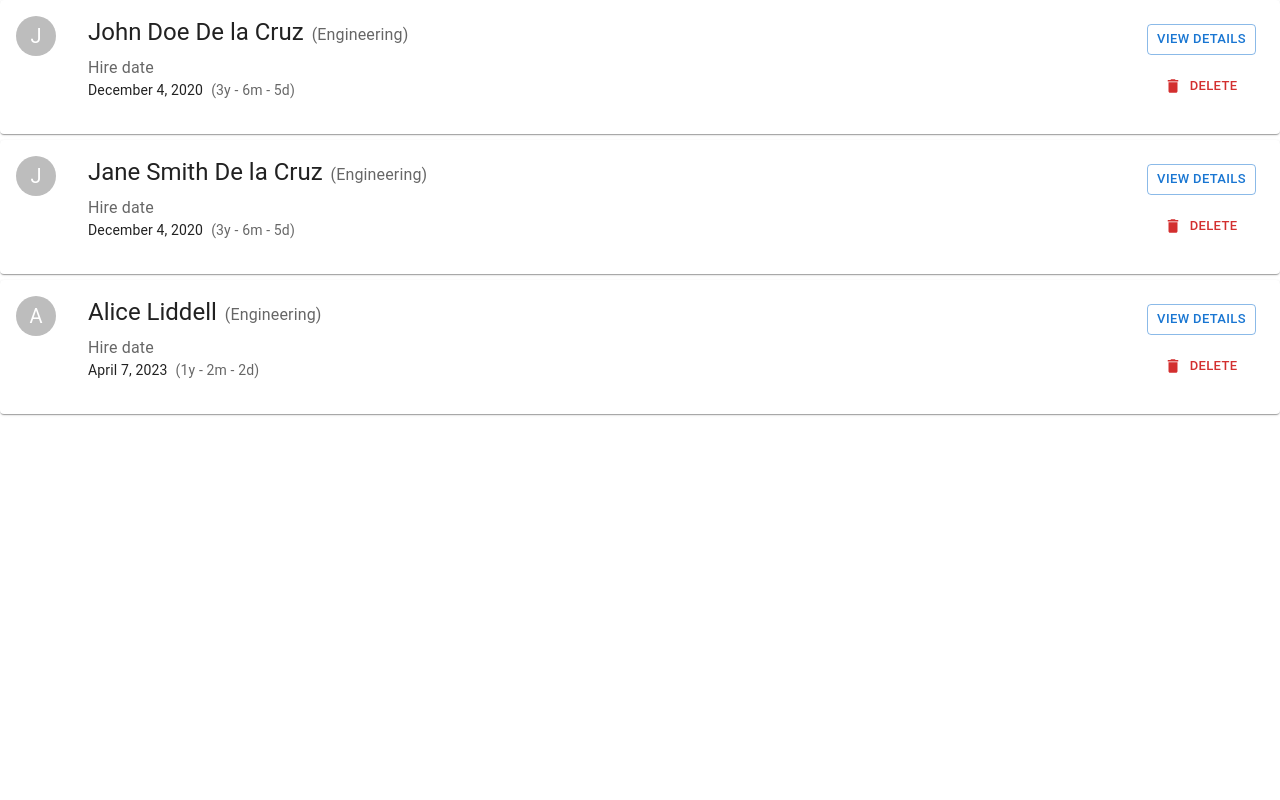
List of employees › Delete employee › should display a confirmation dialog when clicking on delete employee button
The width and height of the screenshot is (1280, 800).
Click the 1st button "Delete". click: {"x": 1202, "y": 86}
box: [1147,71,1256,102]
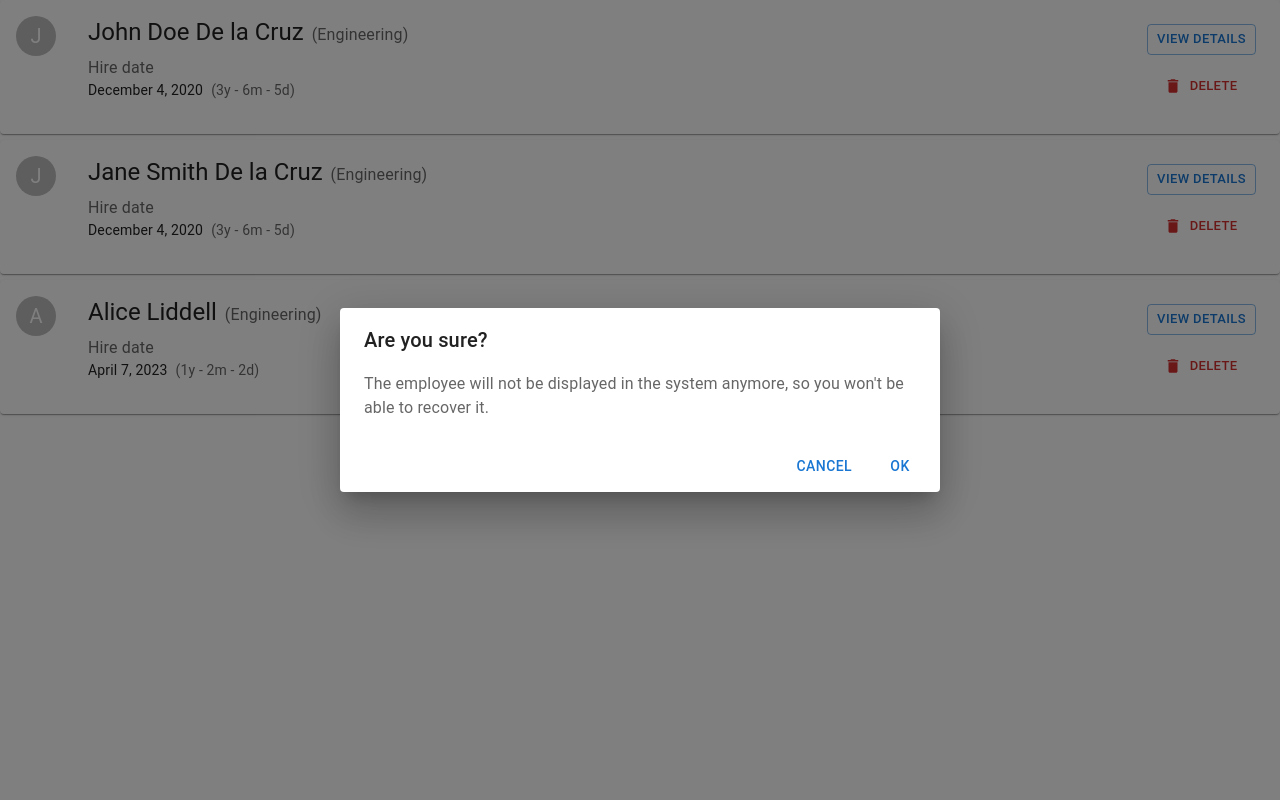
Check: the dialog is shown, box [340,308,940,492]
Check: the dialog shows "Are you sure?", box [364,328,488,352]
Check: the dialog shows "The employee will not be displayed in the system anymore, so you won't be able to recover it.", box [364,374,904,417]
